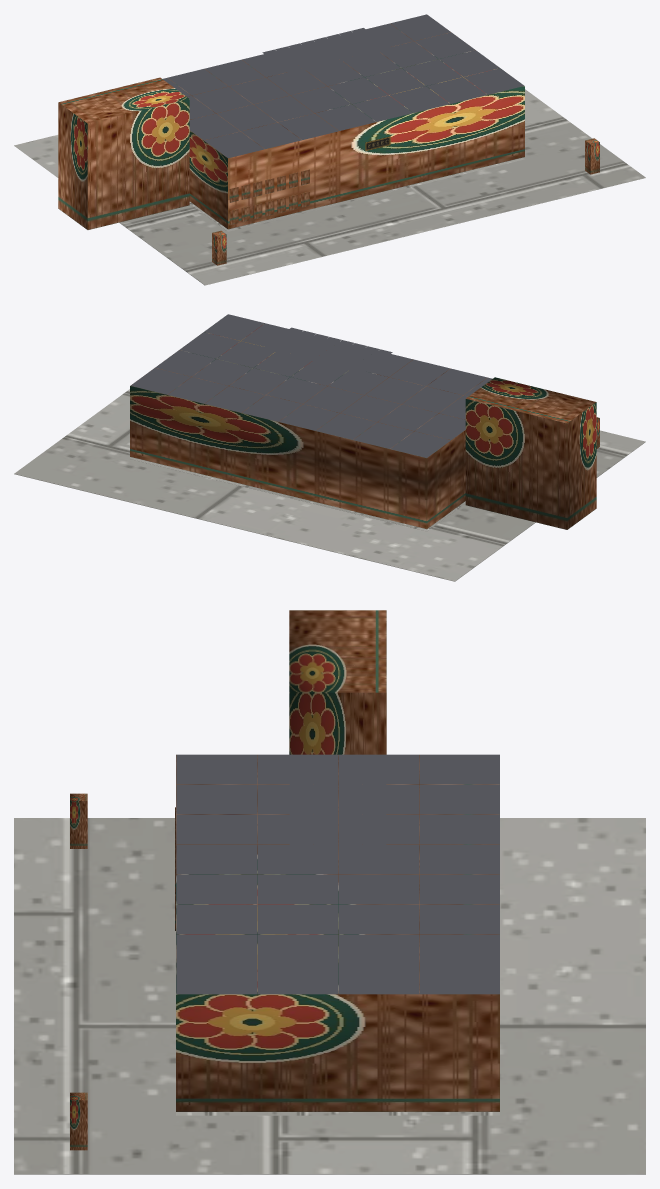
3 views of the same model, one above another, from view 1: azimuth 30°, elevation 25°; view 2: azimuth 150°, elevation 25°; view 3: azimuth 270°, elevation 25° (orthographic). The views are drawn at different scales.
Visible parts, largest first — view 1: 11680_01_06313_018_02_L2__body, 11680_01_06313_018_01_L2__base, 11680_01_06313_018_03_L2__roof, 11680_01_06313_018_05_L2__openings, 11680_01_06313_018_06_L2__green; view 2: 11680_01_06313_018_02_L2__body, 11680_01_06313_018_03_L2__roof, 11680_01_06313_018_01_L2__base; view 3: 11680_01_06313_018_01_L2__base, 11680_01_06313_018_03_L2__roof, 11680_01_06313_018_02_L2__body, 11680_01_06313_018_06_L2__green.
Part boxes in pixels (x1,y1,x2,y2): 11680_01_06313_018_02_L2__body: (58, 23, 524, 229); 11680_01_06313_018_01_L2__base: (14, 89, 645, 285); 11680_01_06313_018_03_L2__roof: (163, 14, 524, 158); 11680_01_06313_018_05_L2__openings: (229, 169, 309, 224); 11680_01_06313_018_06_L2__green: (212, 138, 599, 265); 11680_01_06313_018_02_L2__body: (130, 323, 596, 529); 11680_01_06313_018_03_L2__roof: (130, 314, 492, 457); 11680_01_06313_018_01_L2__base: (14, 389, 645, 581); 11680_01_06313_018_01_L2__base: (14, 818, 645, 1174); 11680_01_06313_018_03_L2__roof: (176, 754, 499, 994); 11680_01_06313_018_02_L2__body: (176, 610, 499, 1111); 11680_01_06313_018_06_L2__green: (70, 793, 87, 1150).
Bounding box in the file's own units: 112 × 24.62 × 78.
5 materials, 5 textured.
